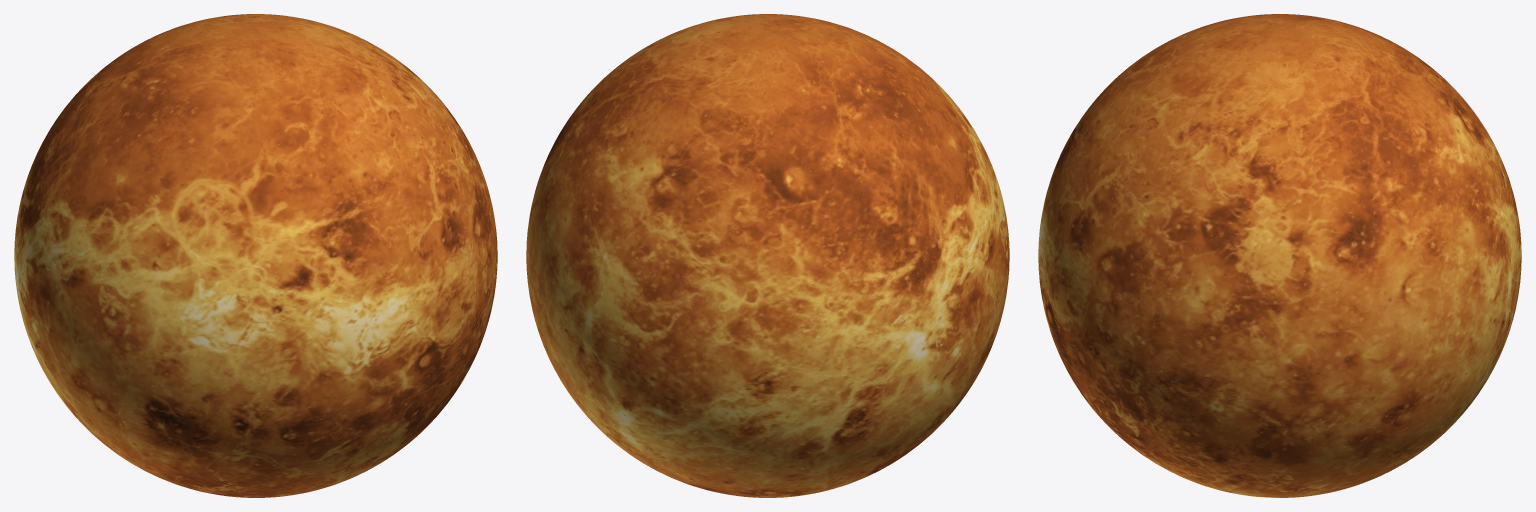
File: venus_Model.fbx
The picture shows the model from 3 angles, left to right: view 1: azimuth 30°, elevation 25°; view 2: azimuth 150°, elevation 25°; view 3: azimuth 270°, elevation 25°; orthographic projection.
Parts seen in each view (by area): view 1: Sphere; view 2: Sphere; view 3: Sphere.
Boxes of the visible parts, bbox=[...] form: Sphere: bbox=[14, 14, 497, 497]; Sphere: bbox=[526, 14, 1009, 497]; Sphere: bbox=[1038, 14, 1521, 497].
Size of the model in its own units: 199 by 200 by 199.
